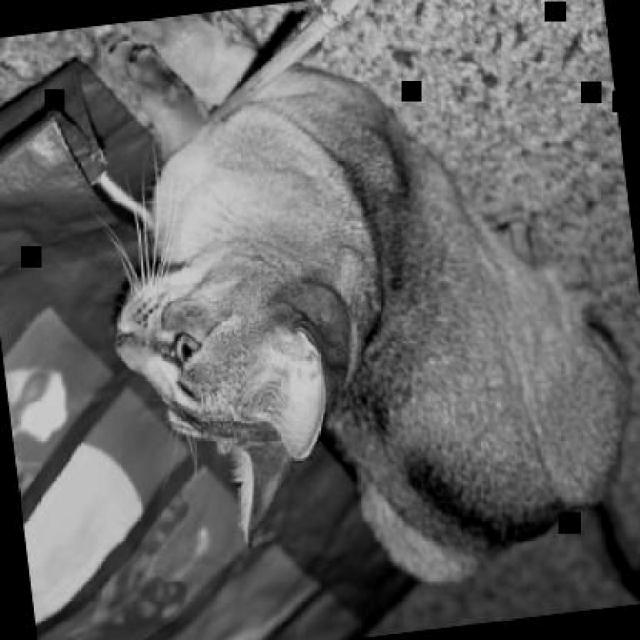Cat: (75, 0, 638, 638)
